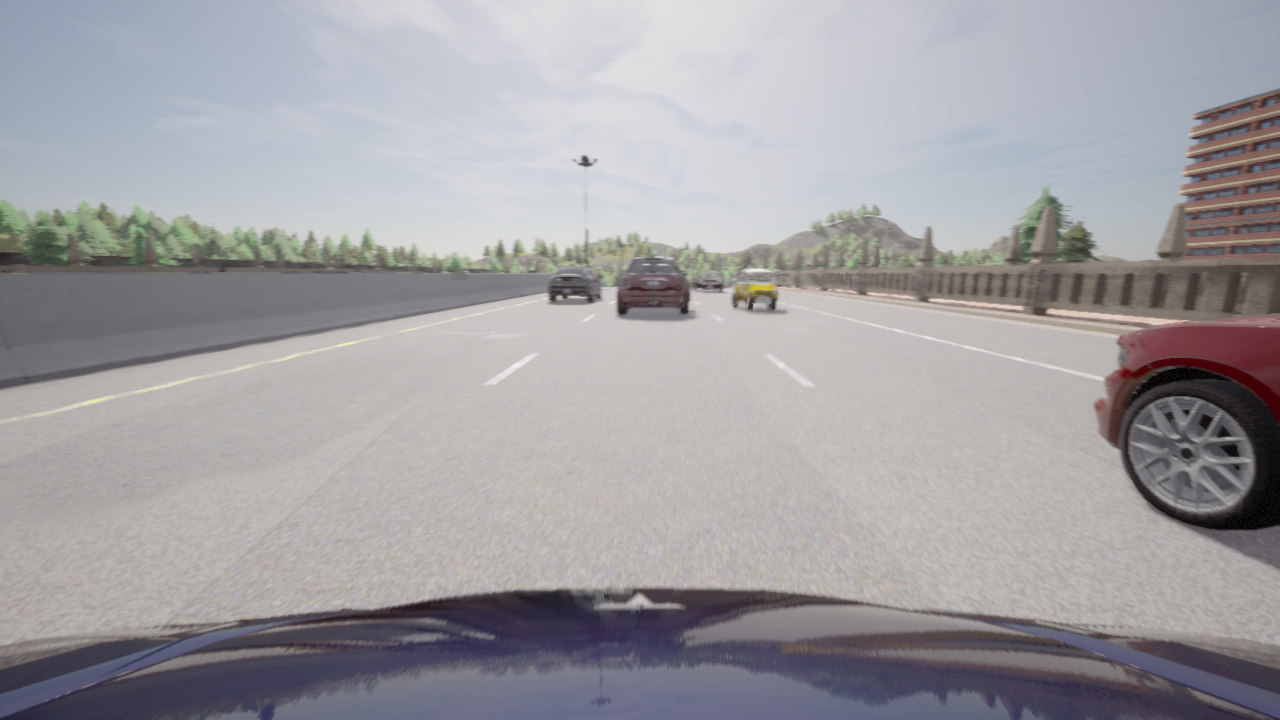cyclist: (0, 588, 1279, 719), (1094, 314, 1279, 531), (617, 253, 689, 314), (548, 266, 602, 301), (732, 269, 777, 310), (691, 272, 724, 291)
